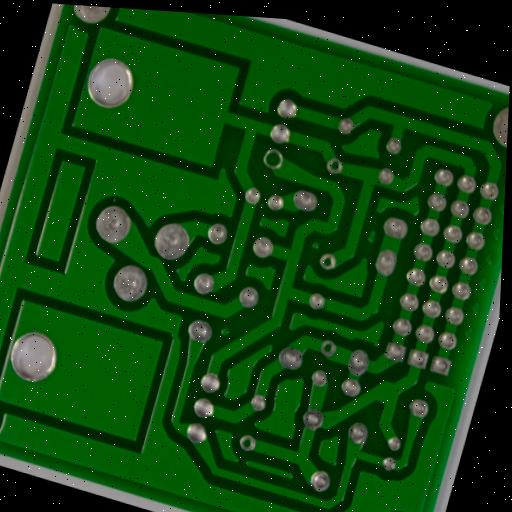missing_hole: (260, 145, 287, 174), (317, 337, 338, 359), (317, 251, 337, 273), (325, 155, 345, 177), (238, 433, 256, 453)
